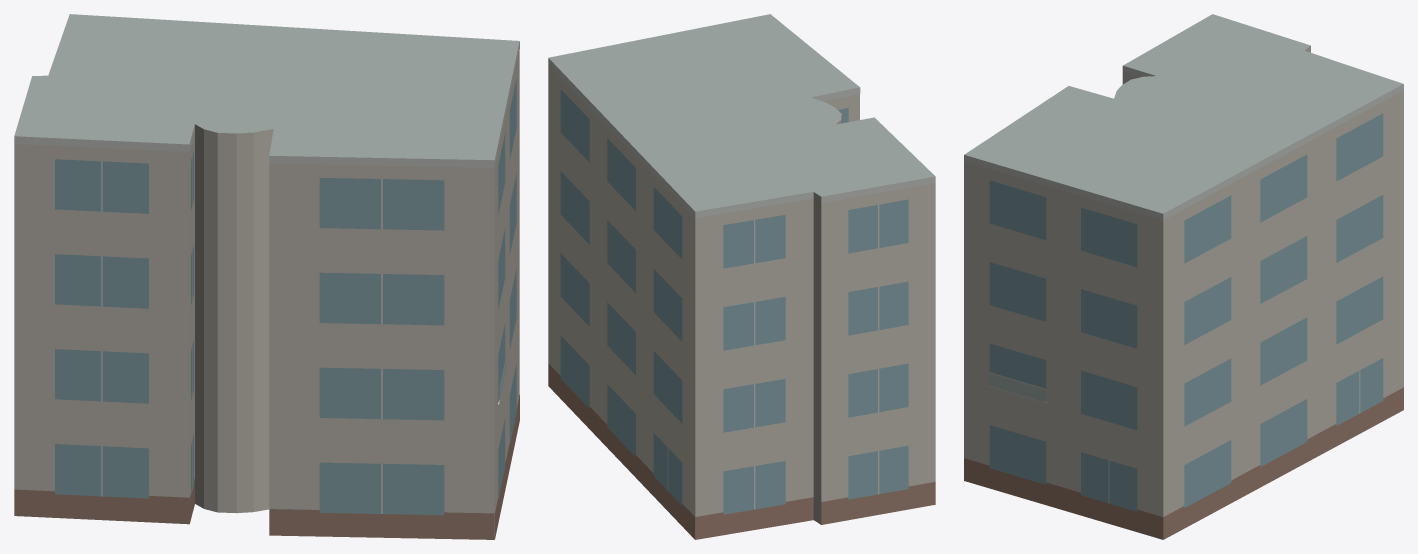
File: survey-upis-32667571.glb
3 views of the same model, side by side, from view 1: azimuth 30°, elevation 25°; view 2: azimuth 150°, elevation 25°; view 3: azimuth 270°, elevation 25° (orthographic). The views are drawn at different scales.
Visible parts, largest first — view 1: survey-upis-32667571.tmp; view 2: survey-upis-32667571.tmp; view 3: survey-upis-32667571.tmp.
Part boxes in pixels (left/top/right/bottom): survey-upis-32667571.tmp: left=14, top=14, right=519, bottom=539; survey-upis-32667571.tmp: left=548, top=14, right=935, bottom=539; survey-upis-32667571.tmp: left=964, top=14, right=1403, bottom=539.
Size of the model in its own units: 16.04 by 12.2 by 14.92.
